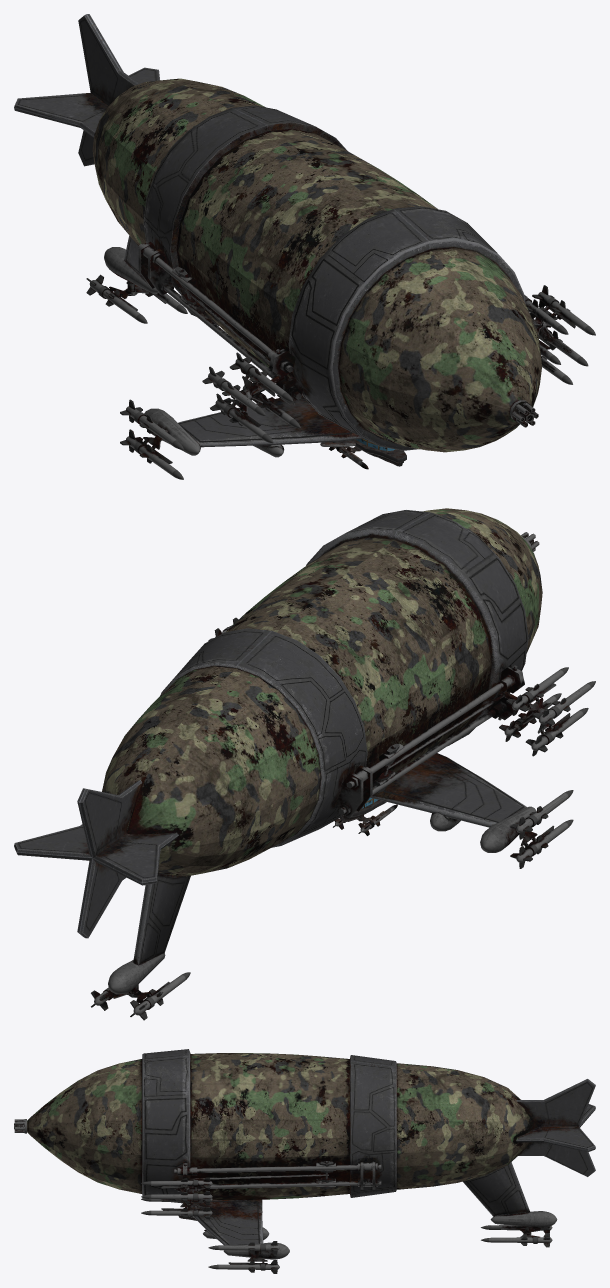
File: uploads_files_727767_Zeppelin_m.FBX
The picture shows the model from 3 angles, top to bottom: view 1: azimuth 30°, elevation 25°; view 2: azimuth 150°, elevation 25°; view 3: azimuth 270°, elevation 25°; orthographic projection. The views are drawn at different scales.
Parts seen in each view (by area): view 1: Zeppelin_Balloon; view 2: Zeppelin_Balloon; view 3: Zeppelin_Balloon.
Part boxes in pixels (x1=…): Zeppelin_Balloon: x1=14, y1=14, x2=595, y2=479; Zeppelin_Balloon: x1=14, y1=508, x2=595, y2=1020; Zeppelin_Balloon: x1=14, y1=1049, x2=595, y2=1273.
Bounding box in the file's own units: 288 × 191 × 553.
